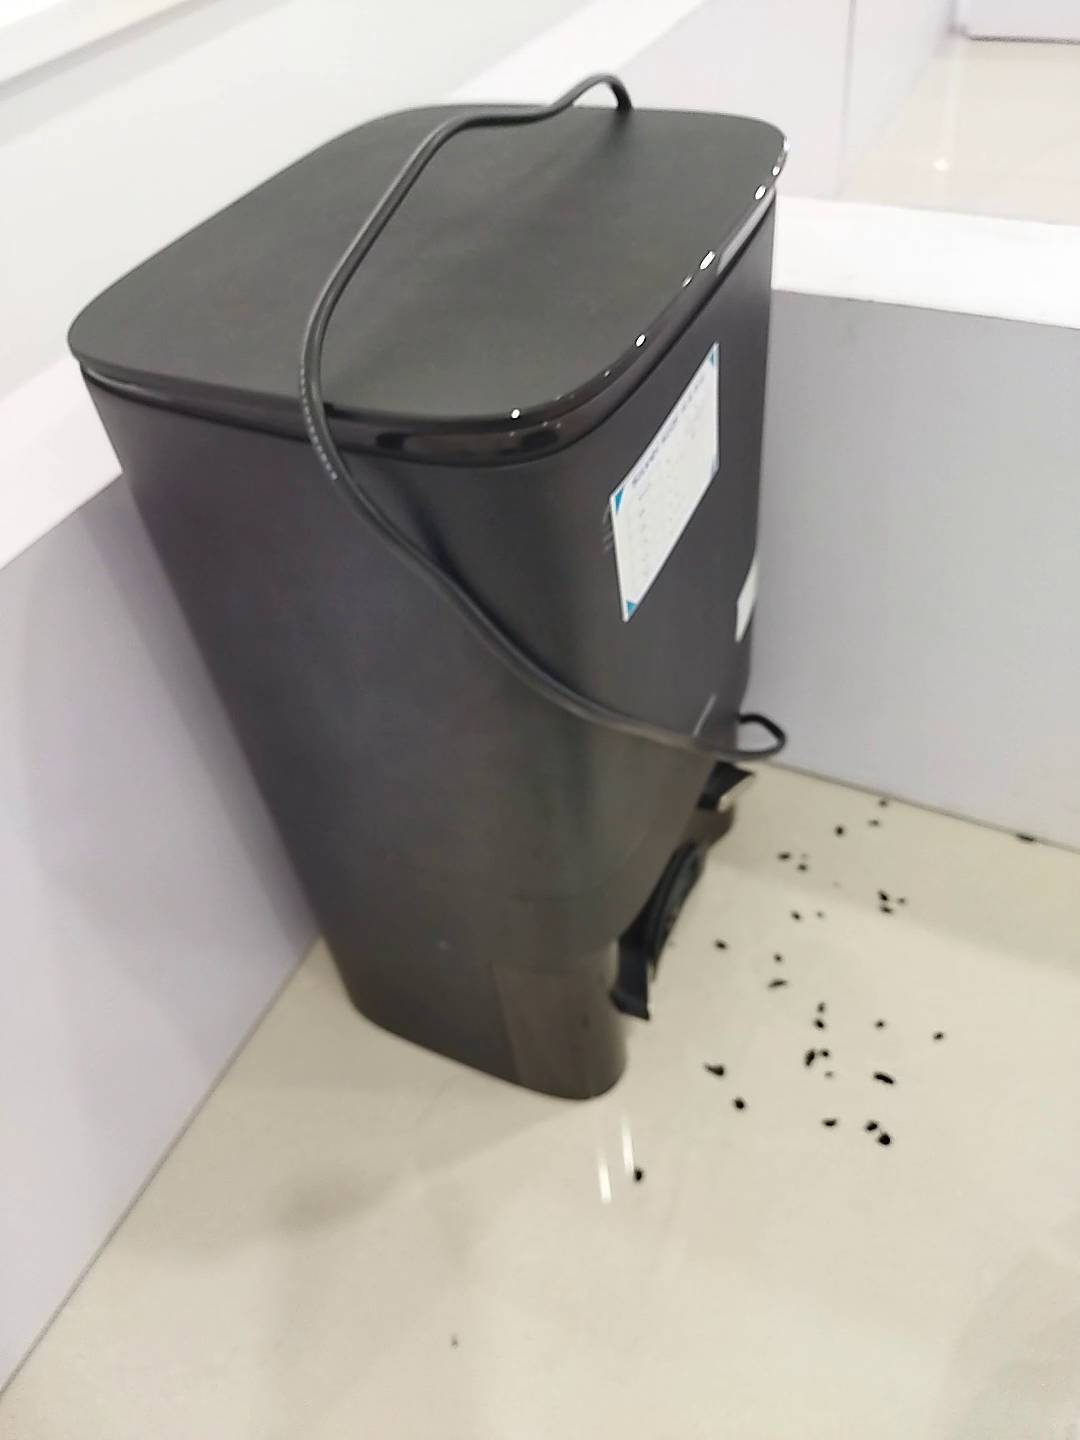dust collecting barrel: (67, 102, 791, 1103)
